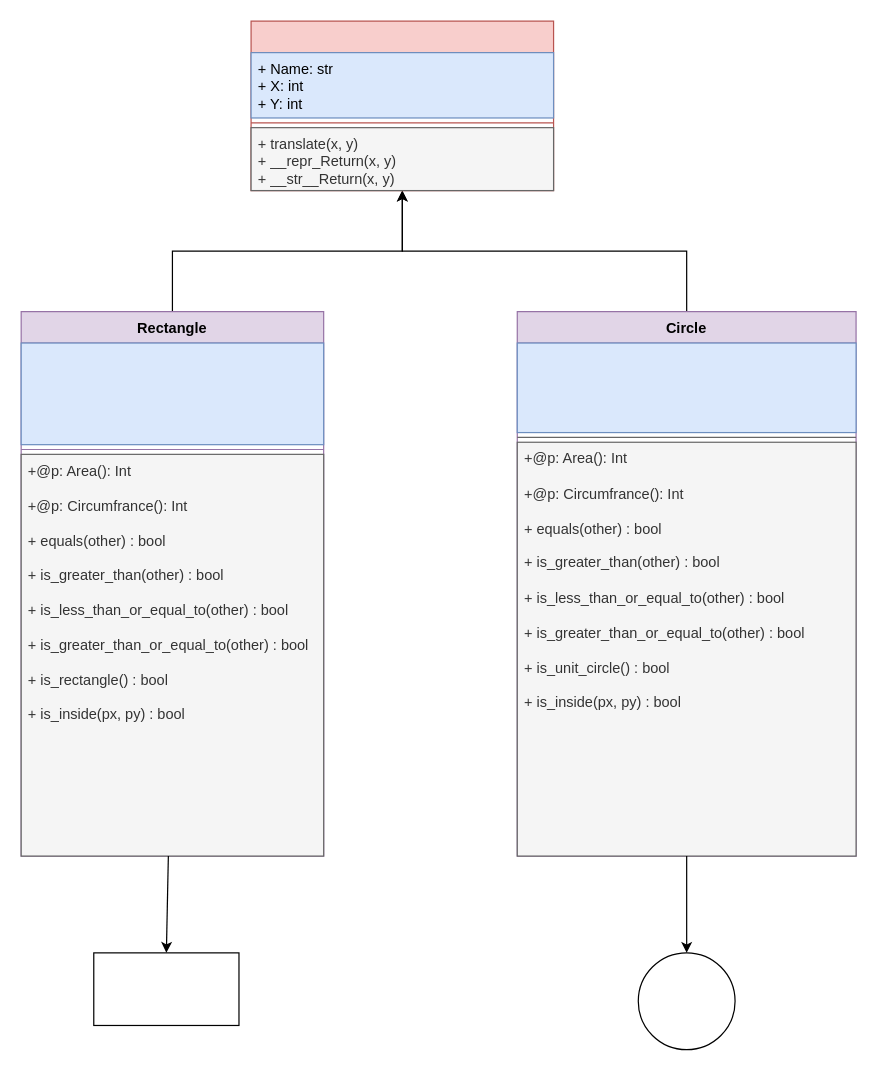
The diagram is 877 pixels wide and 1071 high, and some of its shapes have lost their labels. The shapes that lost their labels are listed below. From the top down, each one's box as (x1, y1, x2, y2) in pixels, then its label:
(250, 20, 554, 191): Superclass: Shape
(20, 342, 324, 445): + Self: str + X: int + Y: int + Side1: int + Side2: int
(516, 342, 856, 433): +Self: str +X: int +Y: int +Radius: int
